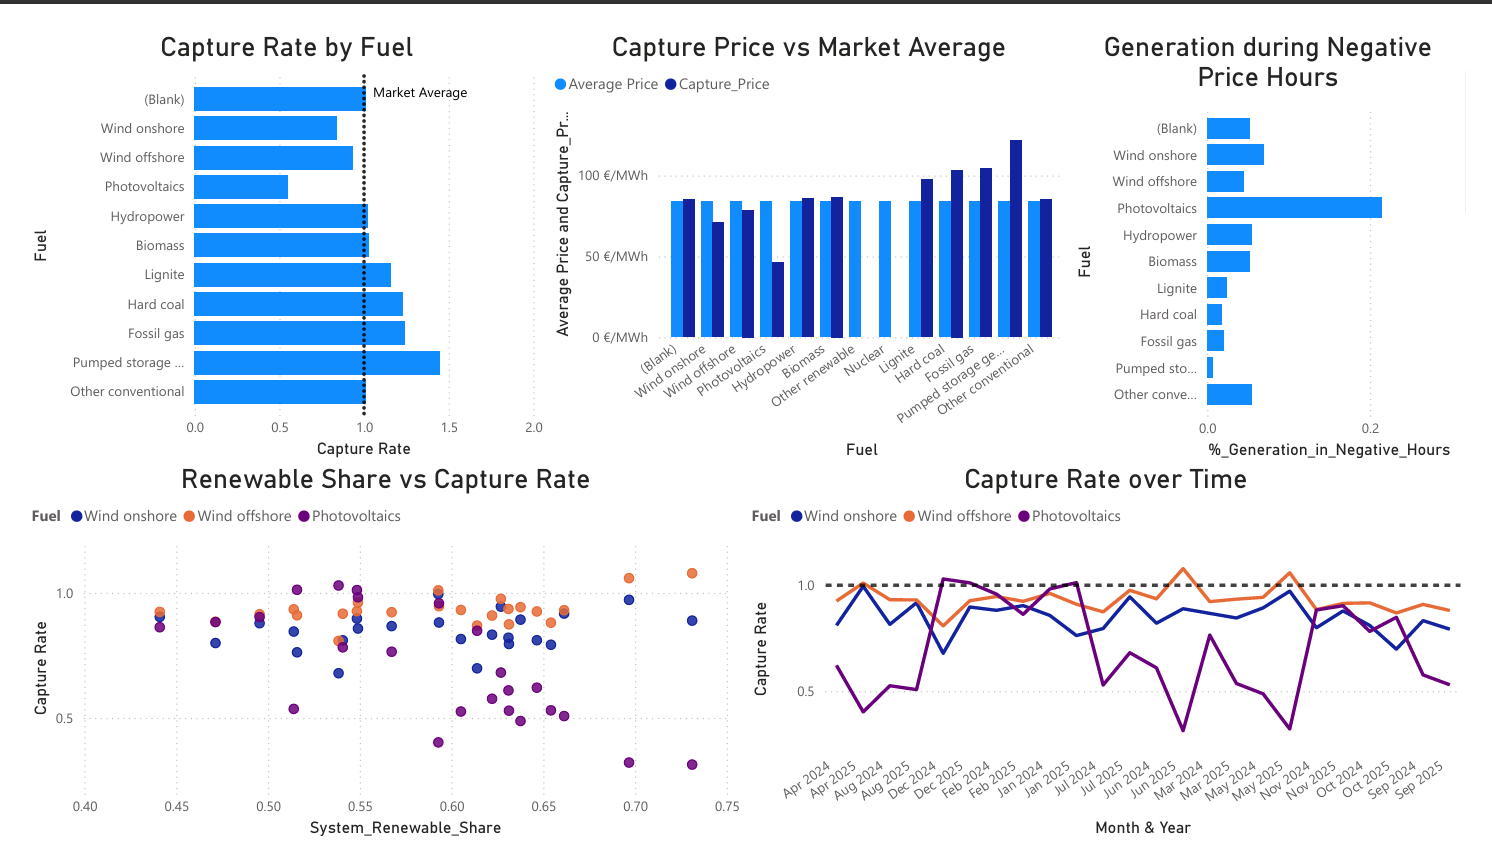

This screenshot's page, from the dashboard's own definition file:
{"tool":"powerbi","page":{"name":"Capture Rates","canvas":[1280,720],"ordinal":3},"visuals":[{"type":"clusteredBarChart","fields":{"Category":["FuelType.Fuel"],"Y":["Measurestbl.Capture Rate"]},"box":[0,0,464,384],"z":0},{"type":"clusteredColumnChart","title":"Capture Price vs Market Average","fields":{"Category":["FuelType.Fuel"],"Y":["Measurestbl.Avg_Price","Measurestbl.Capture_Price"]},"box":[464,0,464,384],"z":1},{"type":"lineChart","title":"Capture Rate over Time","fields":{"Category":["DateTable.Month & Year"],"Y":["Measurestbl.Capture Rate"],"Series":["FuelType.Fuel"]},"box":[640,384,640,336],"z":2},{"type":"scatterChart","title":"Renewable Share vs Capture Rate","fields":{"Y":["Measurestbl.Capture Rate"],"Category":["DateTable.Month & Year"],"Series":["FuelType.Fuel"],"X":["Measurestbl.System_Renewable_Share"]},"box":[0,384,640,336],"z":3},{"type":"clusteredBarChart","title":"Generation during Negative Price Hours","fields":{"Category":["FuelType.Fuel"],"Y":["Measurestbl.%_Generation_in_Negative_Hours"]},"box":[928,0,352,384],"z":4}]}

Visuals, with their boxes in screenshot pixels (x1, y1, x2, y2), scaled from the page's 1280x720 canvas onto the 1492x865 screenshot:
clusteredBarChart - FuelType.Fuel x Measurestbl.Capture Rate: bbox(0, 0, 541, 461)
"Capture Price vs Market Average" clusteredColumnChart: bbox(541, 0, 1082, 461)
"Capture Rate over Time" lineChart: bbox(746, 461, 1491, 864)
"Renewable Share vs Capture Rate" scatterChart: bbox(0, 461, 746, 864)
"Generation during Negative Price Hours" clusteredBarChart: bbox(1082, 0, 1491, 461)
